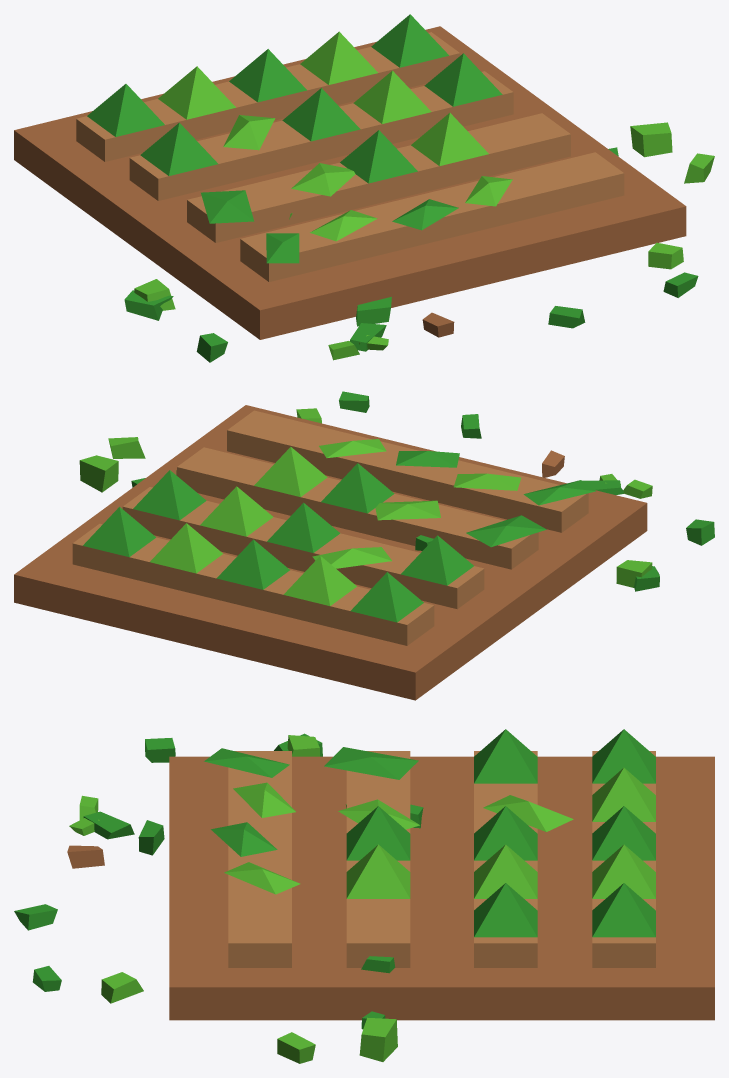
File: field_t1_v2_dmg1.glb
3 views of the same model, one above another, from view 1: azimuth 30°, elevation 25°; view 2: azimuth 150°, elevation 25°; view 3: azimuth 270°, elevation 25° (orthographic). The views are drawn at different scales.
Parts seen in each view (by area): view 1: field_t1_v2_dmg1; view 2: field_t1_v2_dmg1; view 3: field_t1_v2_dmg1.
Boxes of the visible parts, x1,y1,x2,y2 form: field_t1_v2_dmg1: [14, 14, 714, 362]; field_t1_v2_dmg1: [14, 391, 714, 700]; field_t1_v2_dmg1: [14, 729, 714, 1063].
Bounding box in the file's own units: 0.8279 × 0.12 × 0.7706.
Materials: 1 (1 with a texture image).
